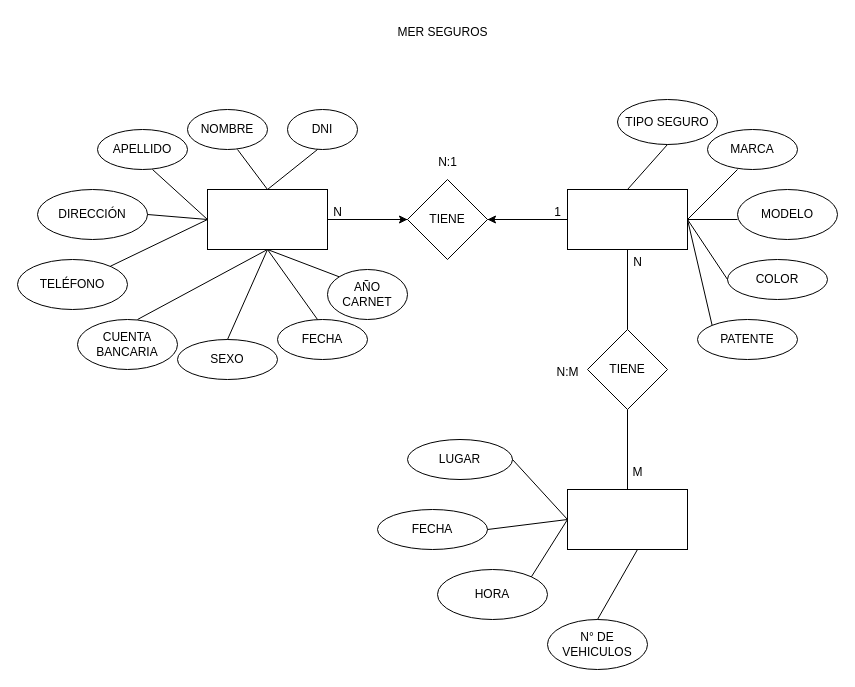
The diagram is 855 pixels wide and 687 high, and some of its shapes have lost their labels. The box of each missing label's shape, as (x1, y1, x2, y2) in pixels:
ACCIDENTES: (566, 488, 688, 550)
CLIENTES: (206, 188, 328, 250)
VEHICULOS: (566, 188, 688, 250)
